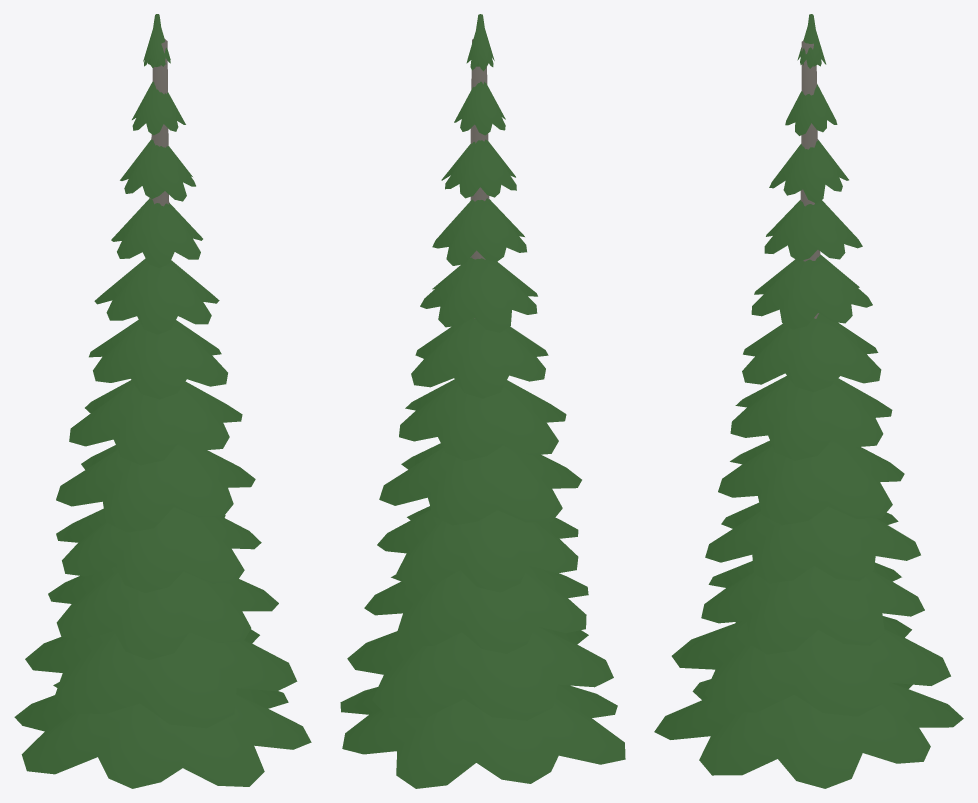
Rendered from Blender_BalsamFir_2.glb.
3 renders of one model, left to right at view 1: azimuth 30°, elevation 25°; view 2: azimuth 150°, elevation 25°; view 3: azimuth 270°, elevation 25°, orthographic.
Parts seen in each view (by area): view 1: Blender_BalsamFir_2; view 2: Blender_BalsamFir_2; view 3: Blender_BalsamFir_2.
Boxes of the visible parts, x1,y1,x2,y2 form: Blender_BalsamFir_2: (14,14,311,788); Blender_BalsamFir_2: (340,14,625,788); Blender_BalsamFir_2: (654,14,963,788).
Size of the model in its own units: 4.98 by 12.69 by 4.97.
